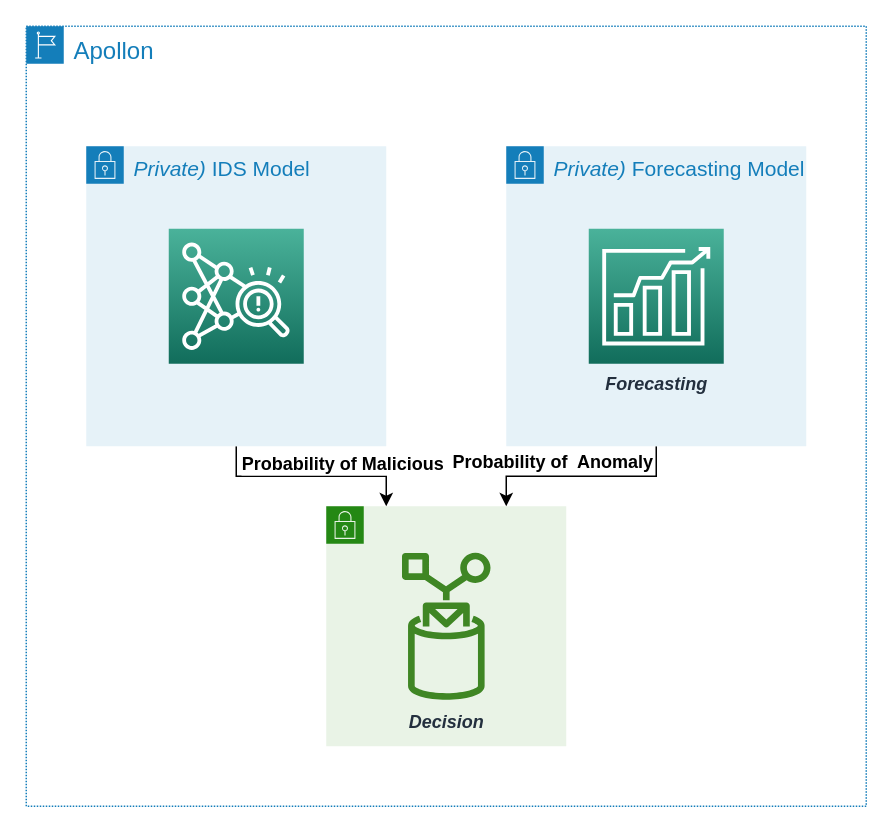
Image size: 893x833. Some labels were removed from this diagram. Here are the shapes that lost their labels. From the top down, the box of each, then its label:
(167, 227, 304, 364): IDS ML
(325, 505, 566, 746): Public) Decision
